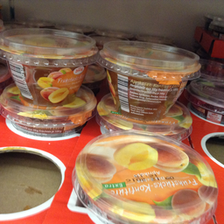jam: (70, 130, 218, 224), (99, 40, 203, 116), (1, 28, 97, 105)
